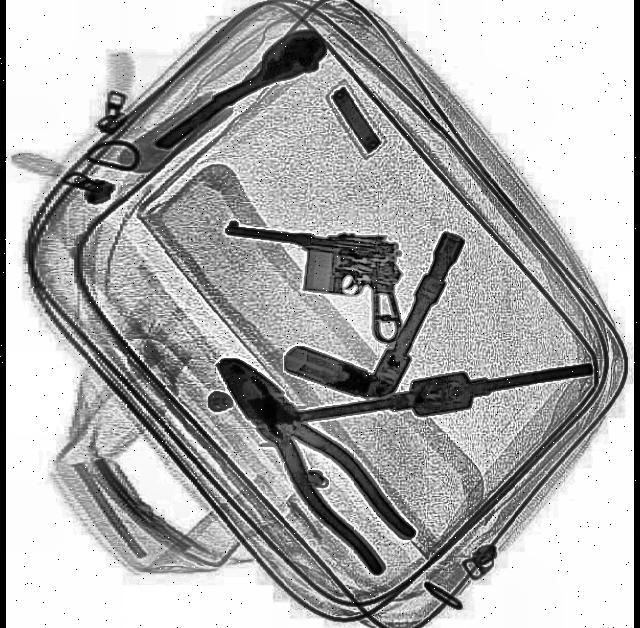Gun: (216, 219, 408, 345)
Pliers: (200, 334, 416, 582)
